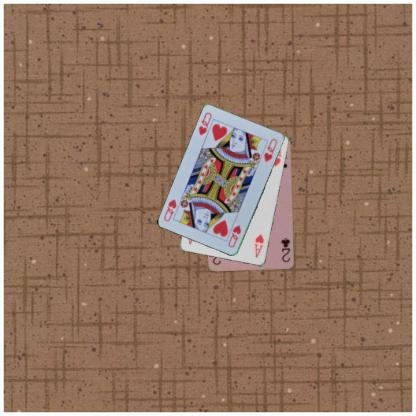2c: (279, 235, 291, 264)
Ah: (252, 232, 265, 259)
Qh: (225, 222, 243, 249), (196, 110, 213, 137)
